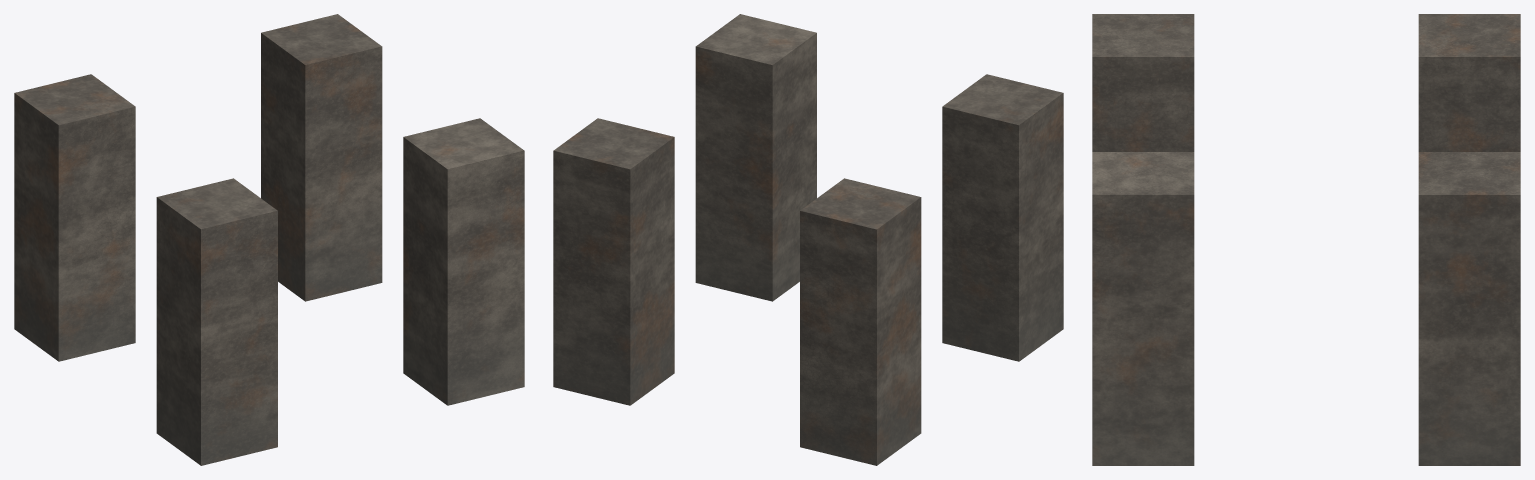
The model's file is dungeon_cave_open_rise.glb.
3 views of the same model, side by side, from view 1: azimuth 30°, elevation 25°; view 2: azimuth 150°, elevation 25°; view 3: azimuth 270°, elevation 25° (orthographic). The views are drawn at different scales.
Visible parts, largest first — view 1: dungeon_cave_open_rise; view 2: dungeon_cave_open_rise; view 3: dungeon_cave_open_rise.
Boxes of the visible parts, left/top/right/bottom form: dungeon_cave_open_rise: left=14, top=14, right=524, bottom=465; dungeon_cave_open_rise: left=553, top=14, right=1063, bottom=465; dungeon_cave_open_rise: left=1092, top=14, right=1520, bottom=465.
Bounding box in the file's own units: 5 × 3.5 × 5.
Materials: 1 (1 with a texture image).
